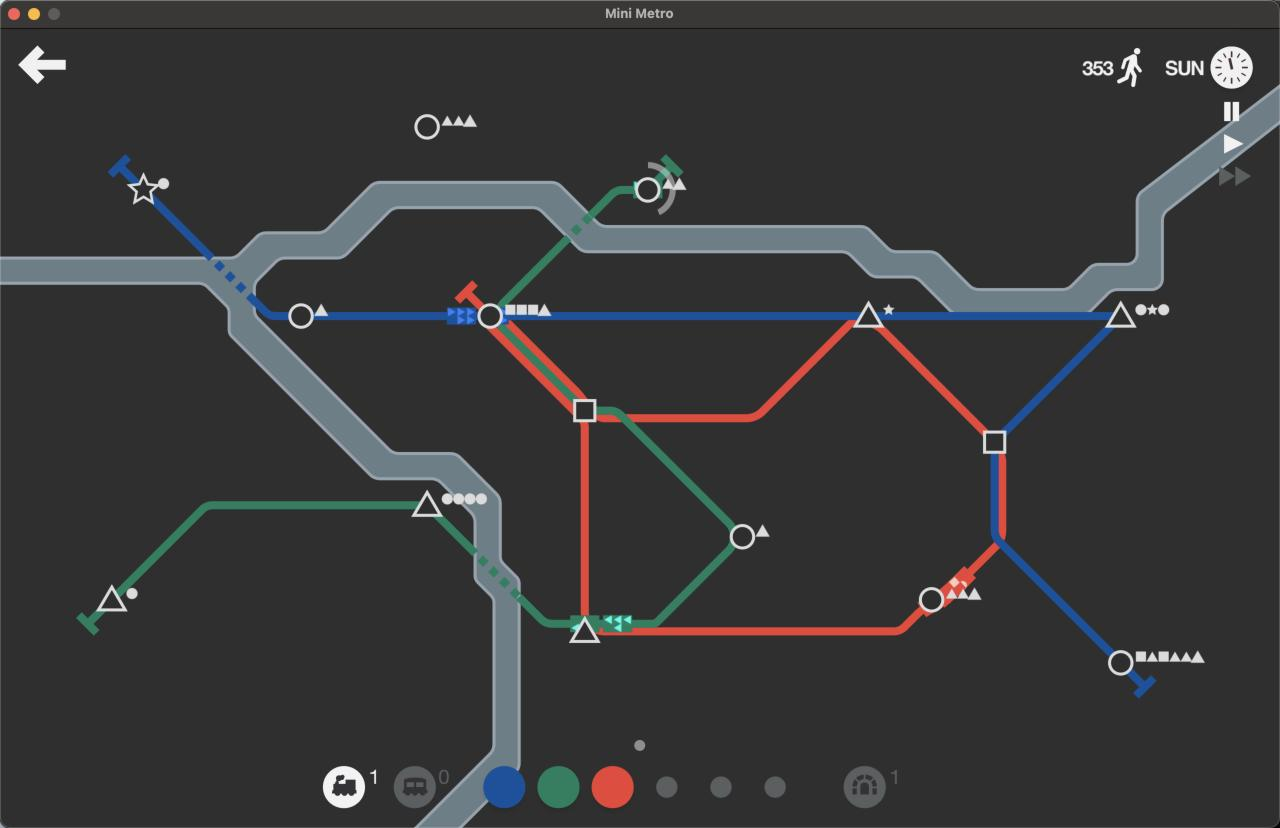CIRCLE: (634, 175, 662, 203), (477, 302, 505, 329), (1107, 649, 1135, 676), (918, 586, 945, 614), (729, 523, 756, 550), (413, 113, 440, 140), (288, 303, 314, 330)
SQUARE: (572, 398, 598, 424), (983, 430, 1007, 455)
STAR: (126, 173, 166, 205)
TRIANGLE: (95, 583, 129, 614), (411, 489, 445, 518), (569, 615, 601, 644), (1105, 301, 1137, 328), (854, 300, 884, 328)
